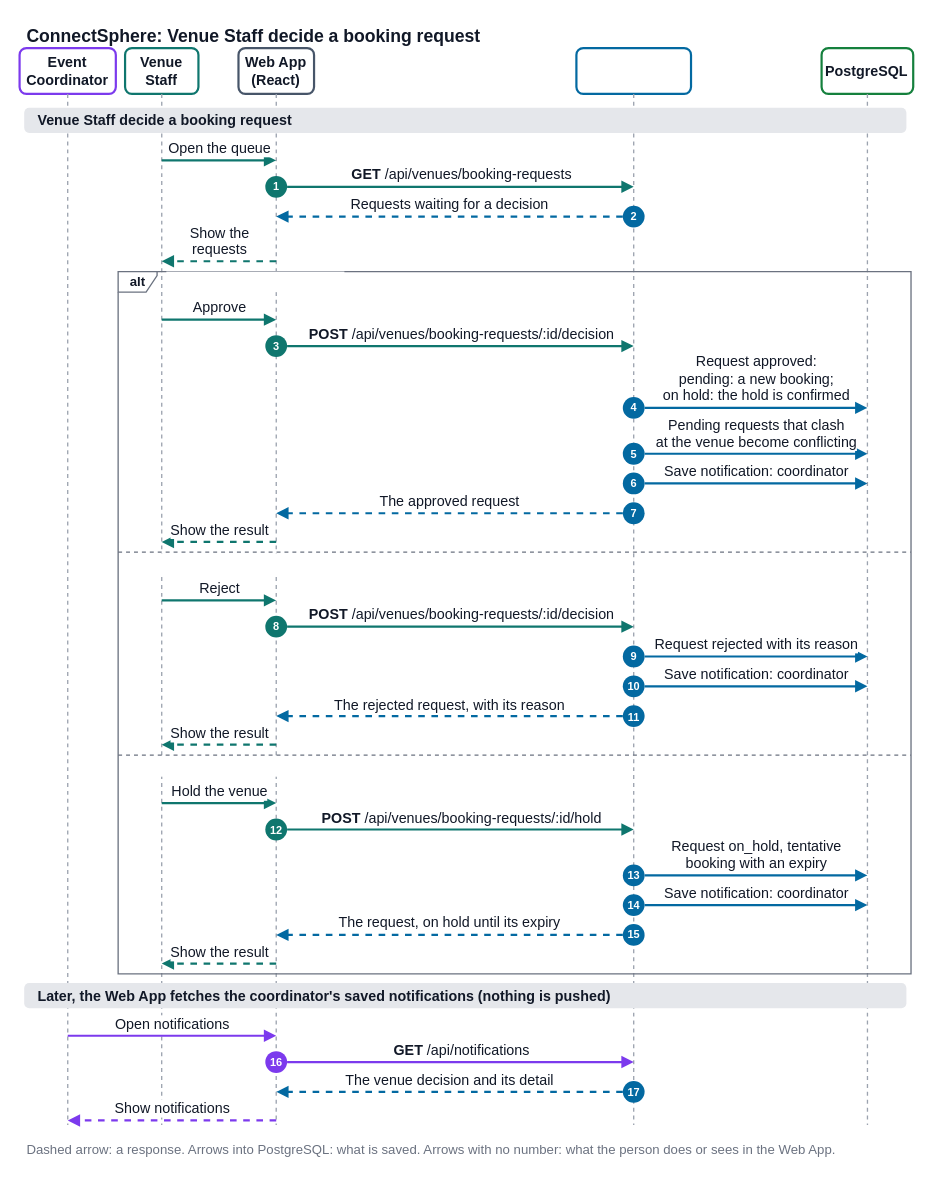
The diagram is 934 pixels wide and 1177 high, and some of its shapes have lost their labels. The shapes that lost their labels are listed below. From the top down, each one's centre as x and y in pixels, then its label:
the point at 633,70: Backend API
the point at 255,281: [Venue Staff approve]
the point at 211,563: [Venue Staff reject]
the point at 343,766: [Venue Staff hold: events with more than one venue]
